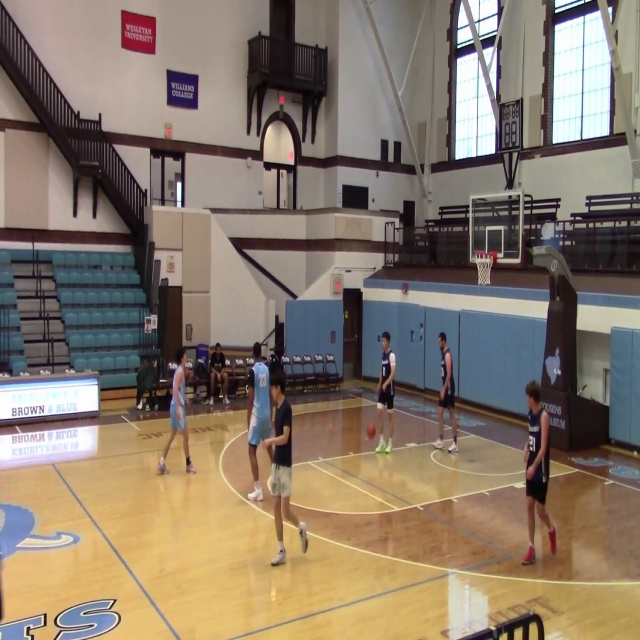Basketball: (366, 422, 375, 437)
